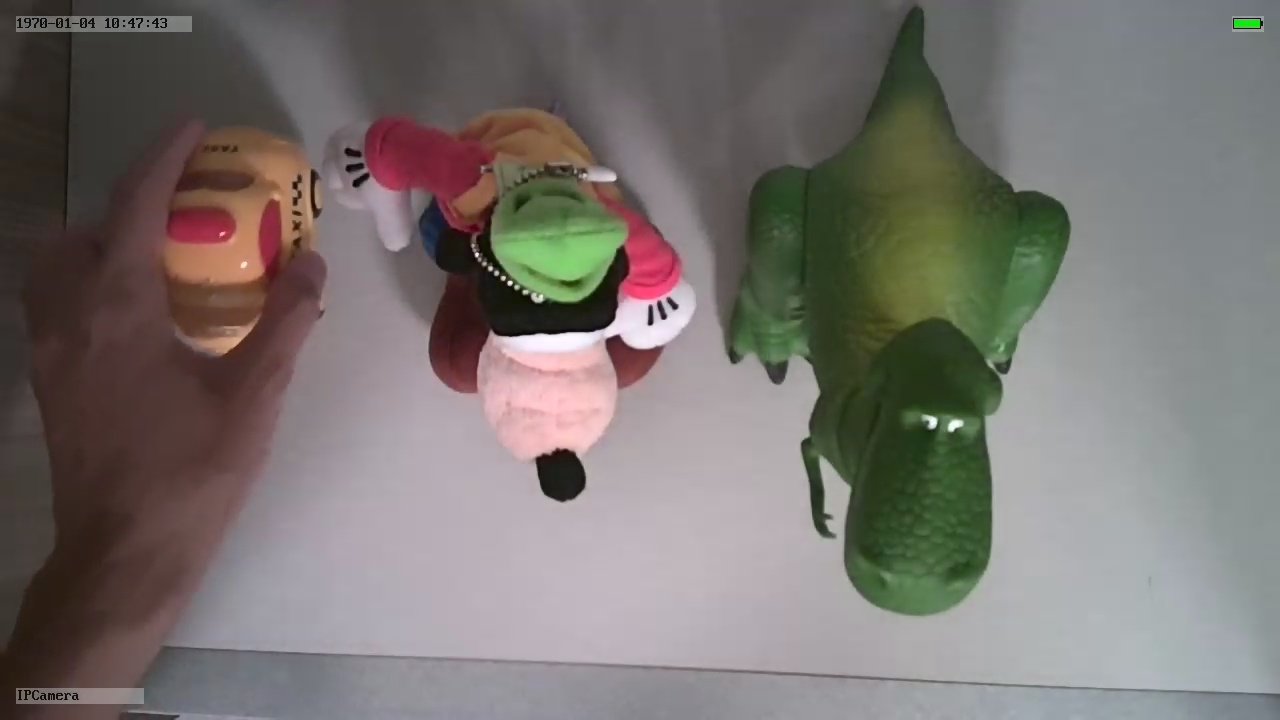goofy: (324, 101, 701, 502)
rex: (726, 85, 1072, 619)
